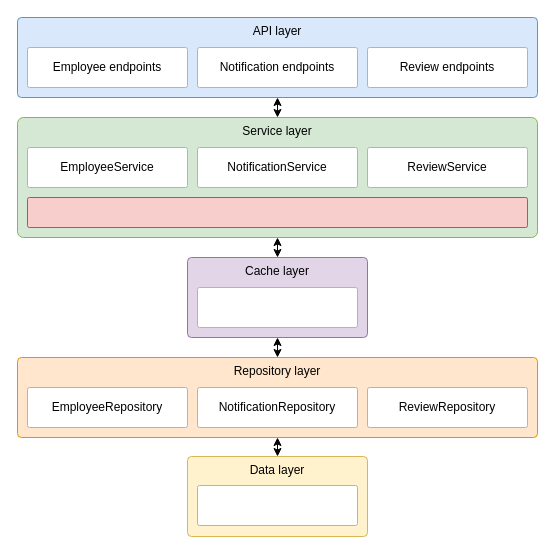
Image size: 555x554. Some labels were removed from this diagram. The shapes that lost their labels are listed below. From the top down, each one's centre as x and y in pixels, then its label:
At point 277,212: "EventBus".
At point 277,307: "Redis".
At point 277,505: "PostgresSQL".
